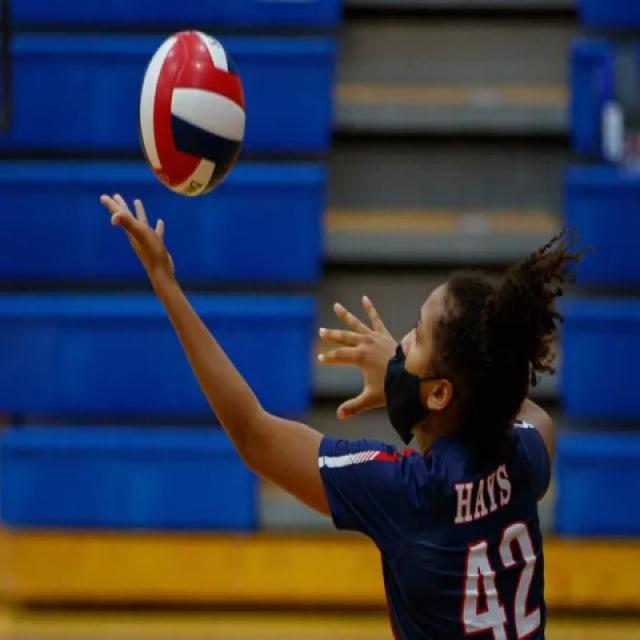volleyball: (130, 23, 252, 203)
